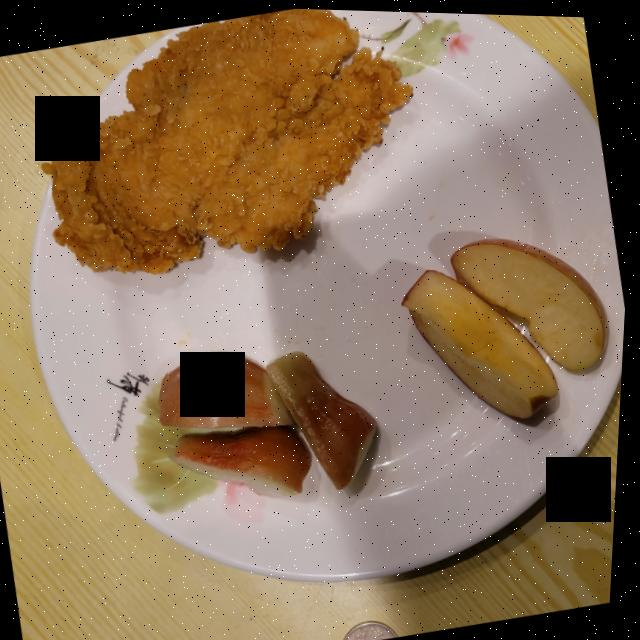apple -sliced-: (405, 235, 611, 415)
coin: (350, 618, 406, 640)
fried chicken cutlet: (45, 7, 413, 272)
